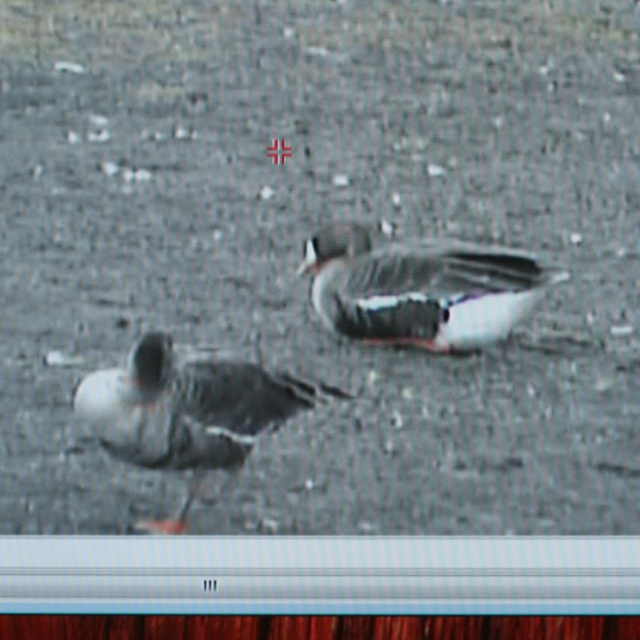Duck: (70, 328, 349, 539), (305, 219, 565, 359)
